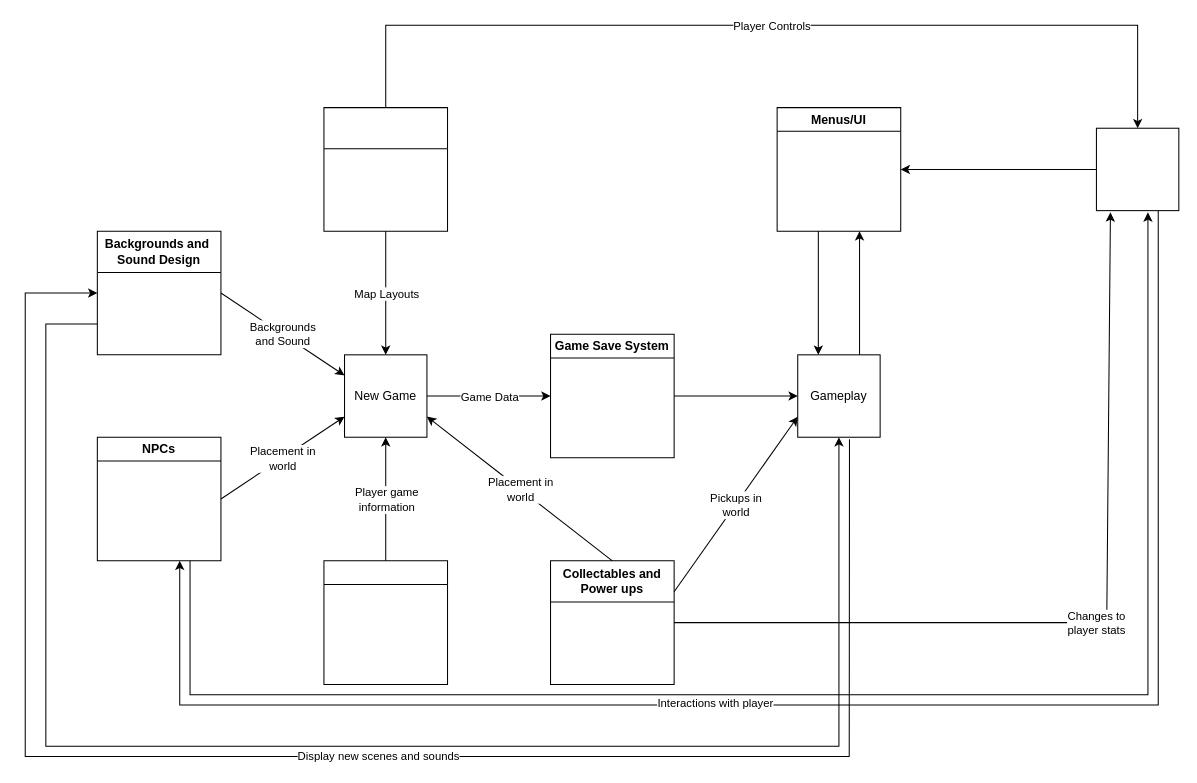
Some shapes in this 1197 by 783 pixel diagram are drawn without their labels. The centre of each missing label's shape, as x and y in pixels:
"Character Creator" goes at point 385,622.
"Level Builder and Player Character" goes at point 385,169.
"Player" goes at point 1137,169.
